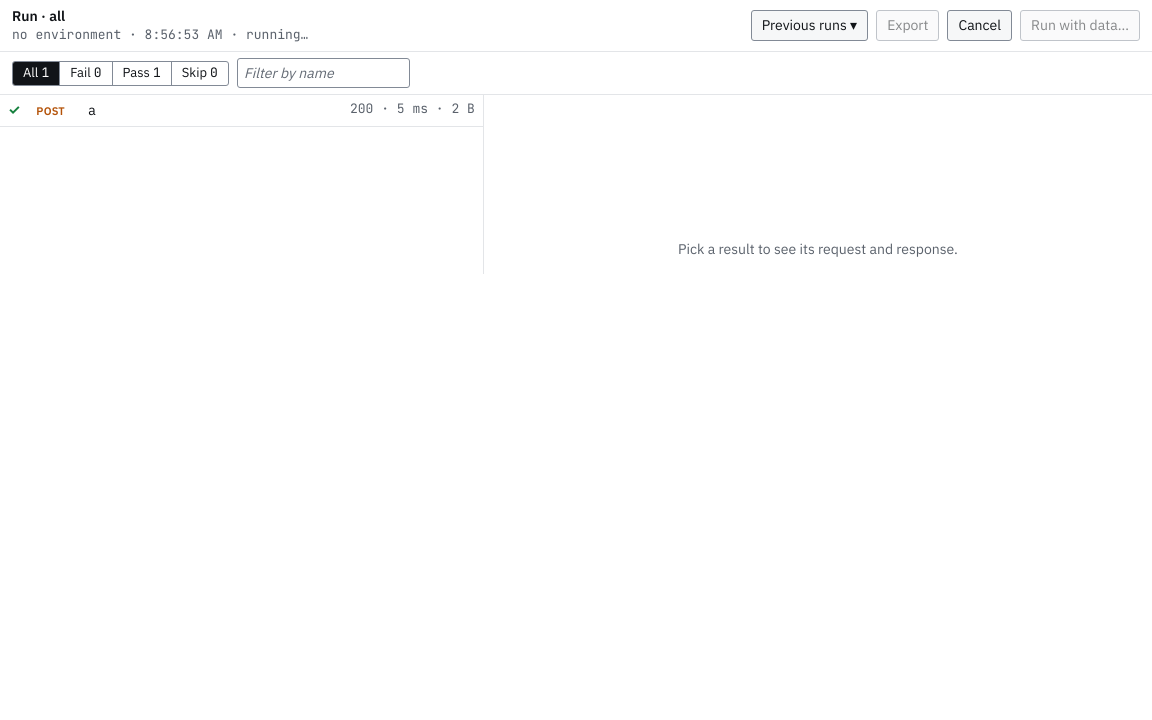
run result detail and history › History lists saved runs and opens one read-only
Click the button "Previous runs ▾" at (809, 26), box [751,10,868,41]
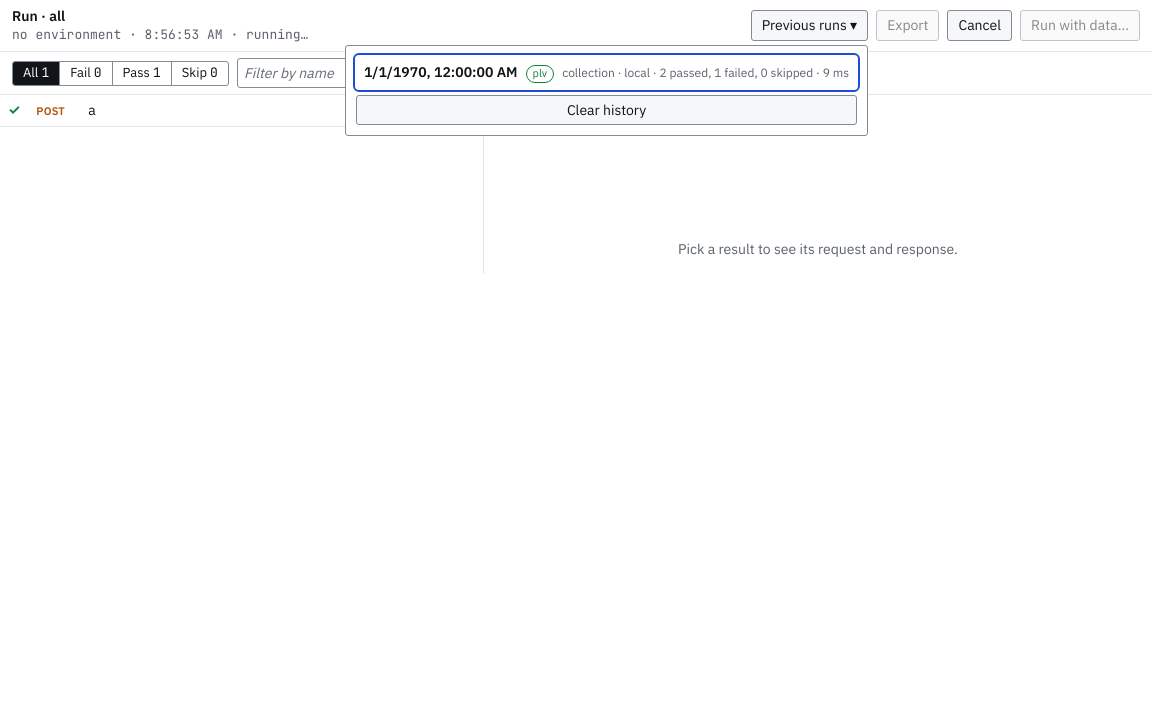
Now the button "plv" shows "collection · local · 2 passed, 1 failed, 0 skipped"
Click the button "plv" at (606, 72), box [356,56,857,89]
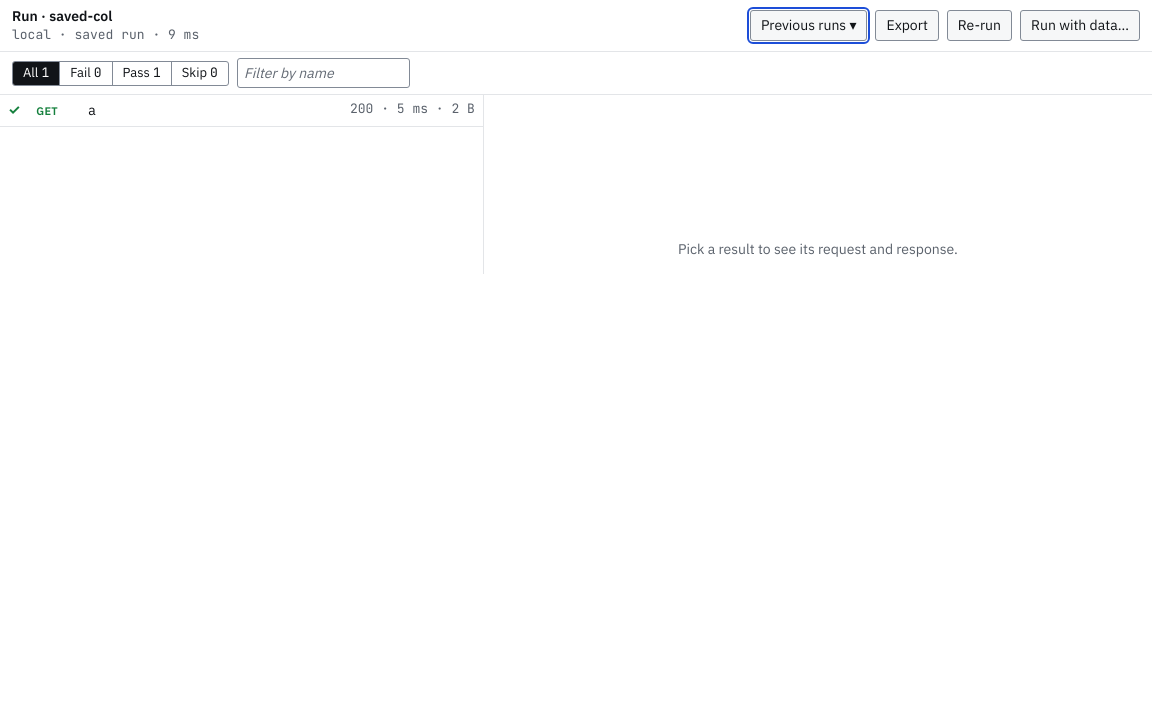
Now the text "Run · saved-col" is shown, box [12,7,112,25]
Now the button "Cancel" is gone
